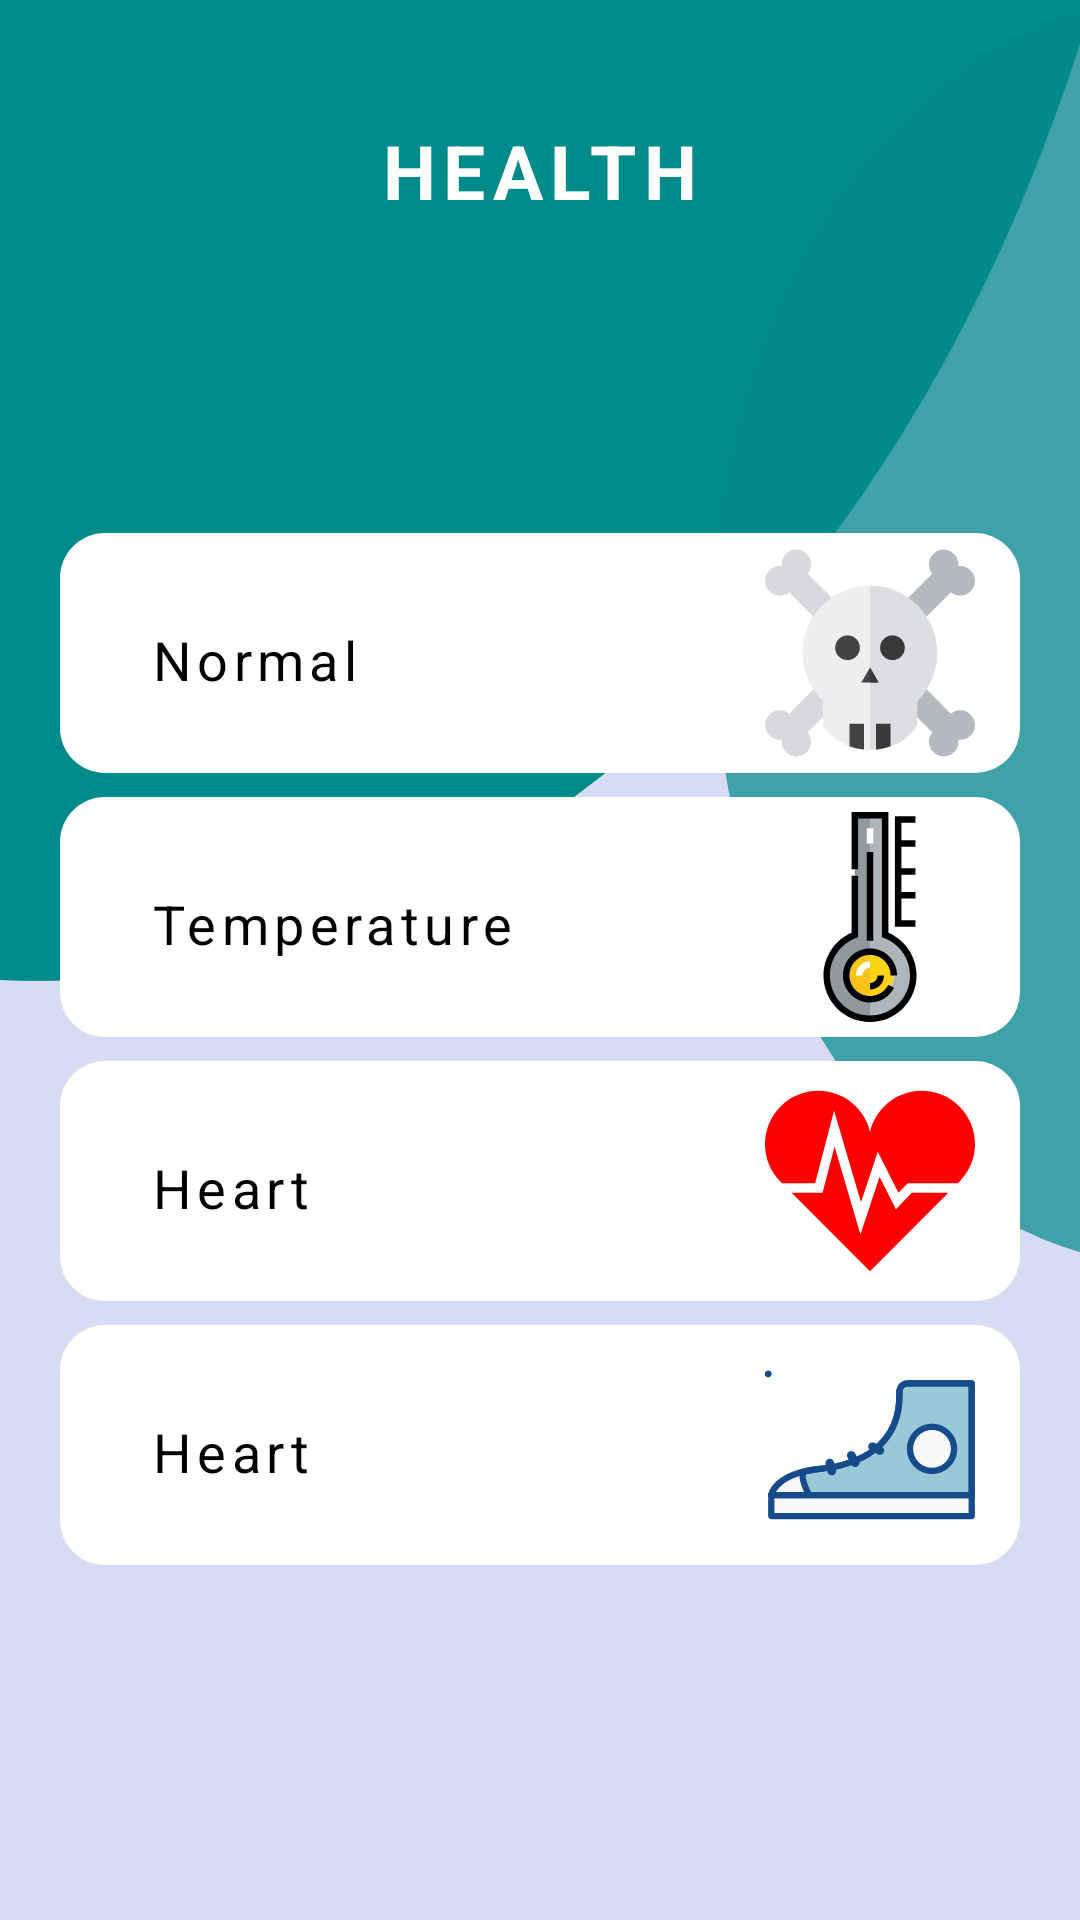

Screen size 1080 x 1920. Icon name, then its center in pixels as (x=x, y=y):
death warning: (x=870, y=653)
heart: (x=870, y=1181)
steps: (x=870, y=1445)
temperature: (x=870, y=917)
